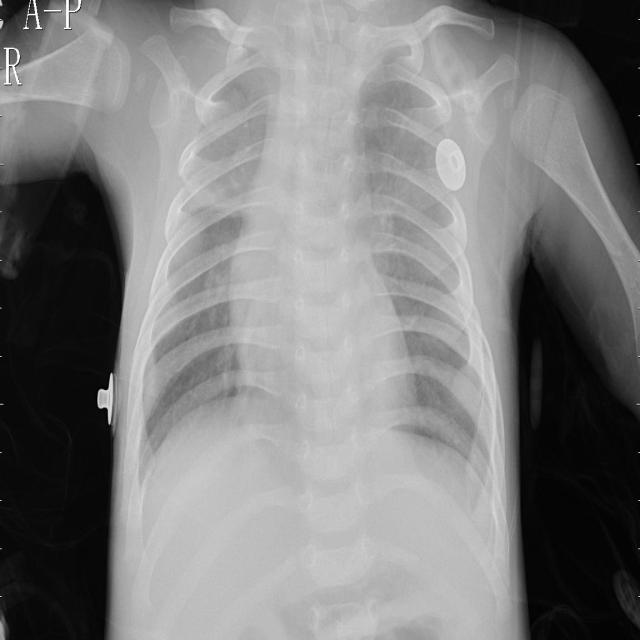low-pneumonia: (176, 87, 277, 230), (346, 155, 426, 267)
